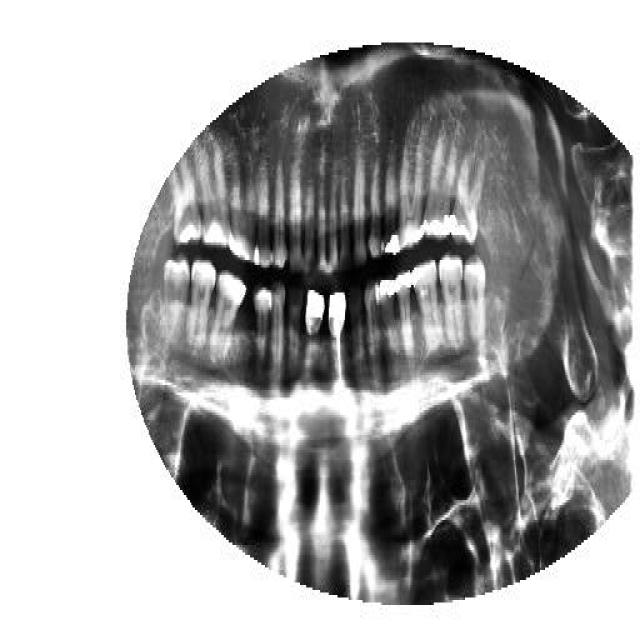Fillings: (423, 138, 452, 242), (452, 152, 483, 248), (394, 270, 416, 360), (382, 138, 398, 260), (379, 275, 400, 367), (304, 290, 325, 342)
Implant: (327, 292, 348, 382)
